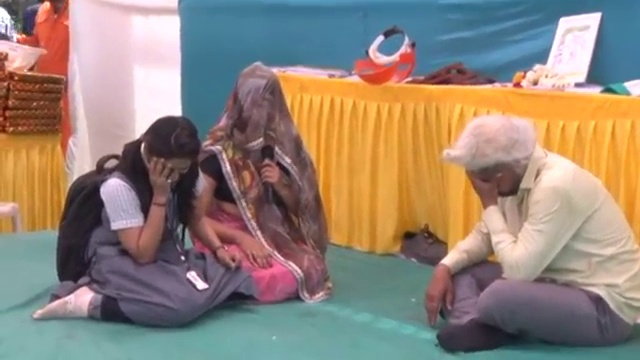helmet: (0, 38, 45, 74)
helmet_off: (452, 115, 543, 209), (133, 116, 203, 183), (229, 67, 284, 136)
person: (415, 105, 640, 332), (48, 111, 217, 326), (192, 69, 327, 299), (13, 1, 72, 78)
